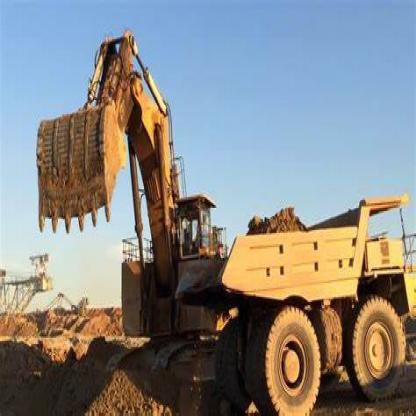dump_truck: (207, 183, 415, 414)
excavator: (37, 42, 245, 376)
